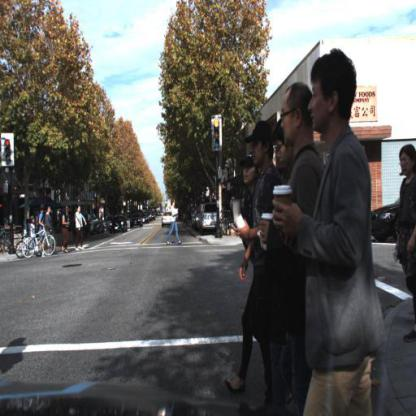car: (373, 177, 398, 248), (107, 211, 128, 241), (109, 212, 128, 237)
pedestrian: (274, 42, 371, 413), (232, 118, 292, 415), (386, 133, 416, 348), (21, 201, 57, 258), (22, 206, 57, 260), (16, 214, 37, 263), (273, 119, 289, 180), (73, 204, 91, 255), (58, 202, 73, 257), (169, 197, 183, 248), (45, 206, 55, 255), (44, 202, 54, 247), (27, 215, 38, 253)
trafficLight: (211, 111, 225, 149), (2, 129, 16, 165)
